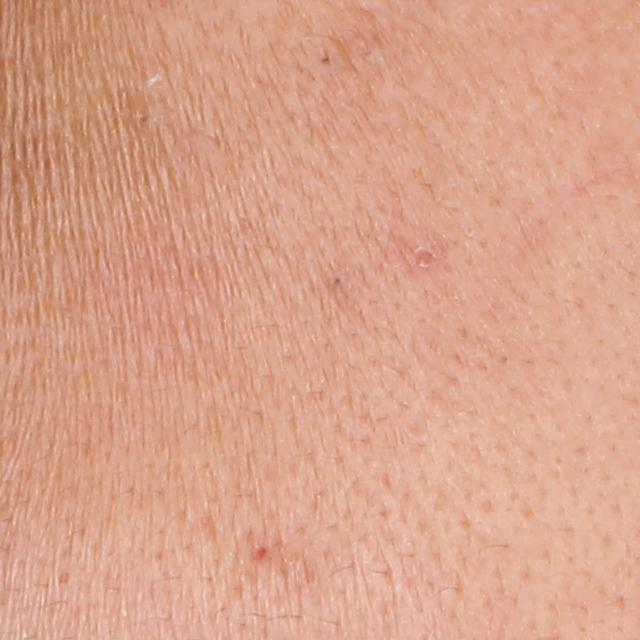comedo: (315, 47, 340, 71), (326, 273, 347, 292)
